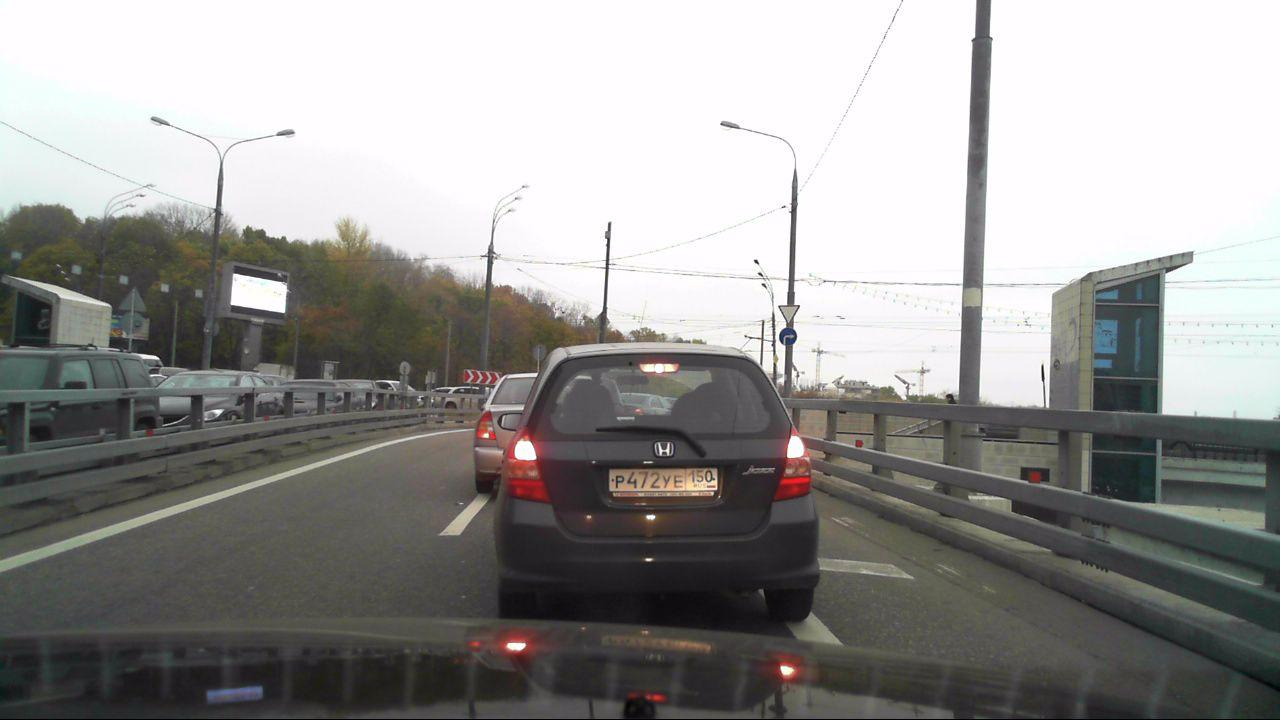1_34_1: (462, 369, 502, 385)
2_4: (778, 302, 801, 324)
4_1_2: (778, 326, 798, 346)
